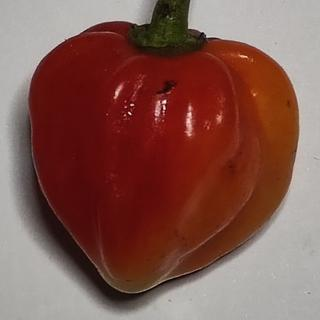Defect: (151, 73, 181, 103)
